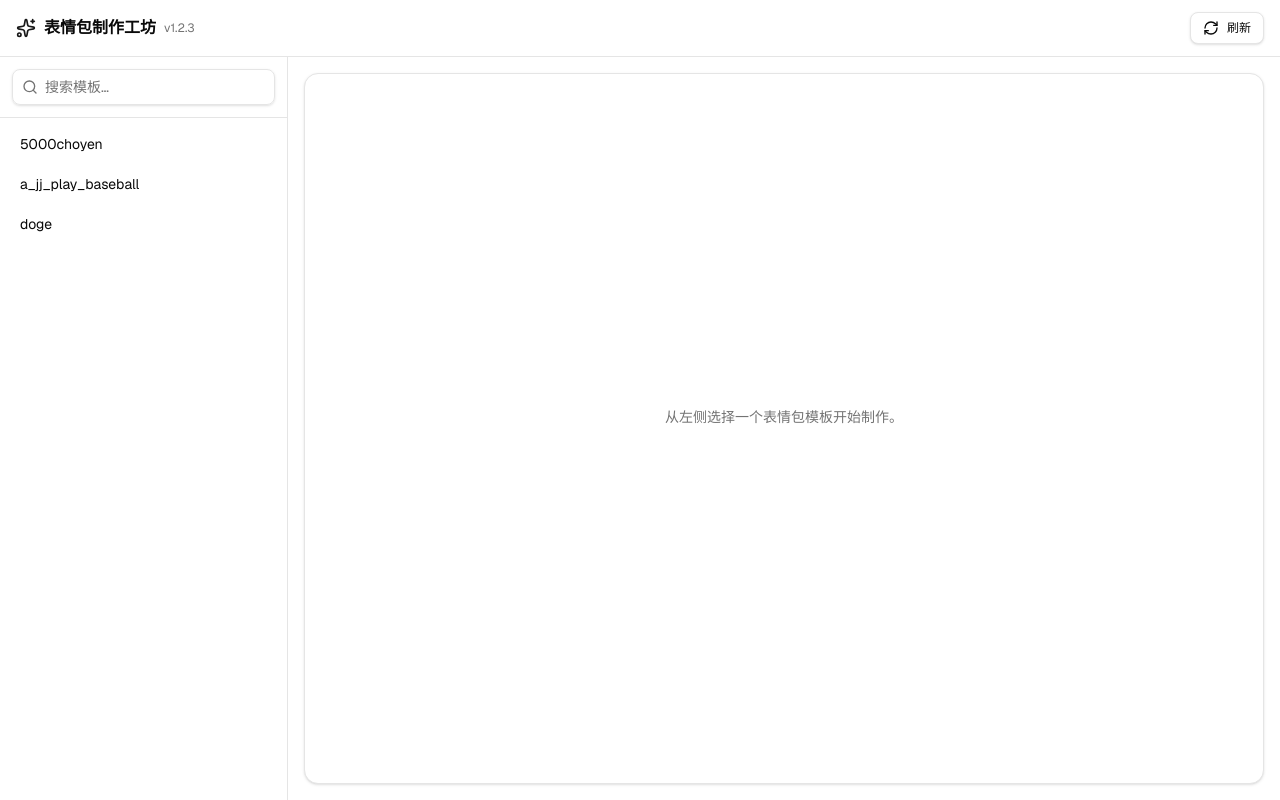
MemeStudio integration › filters the template list by search
This screenshot has width=1280, height=800.
Expected: the text "doge" is shown, [20,215,52,233]
Type "doge" into the field labelled "搜索模板". click: (144, 87)
box: [12,69,275,105]
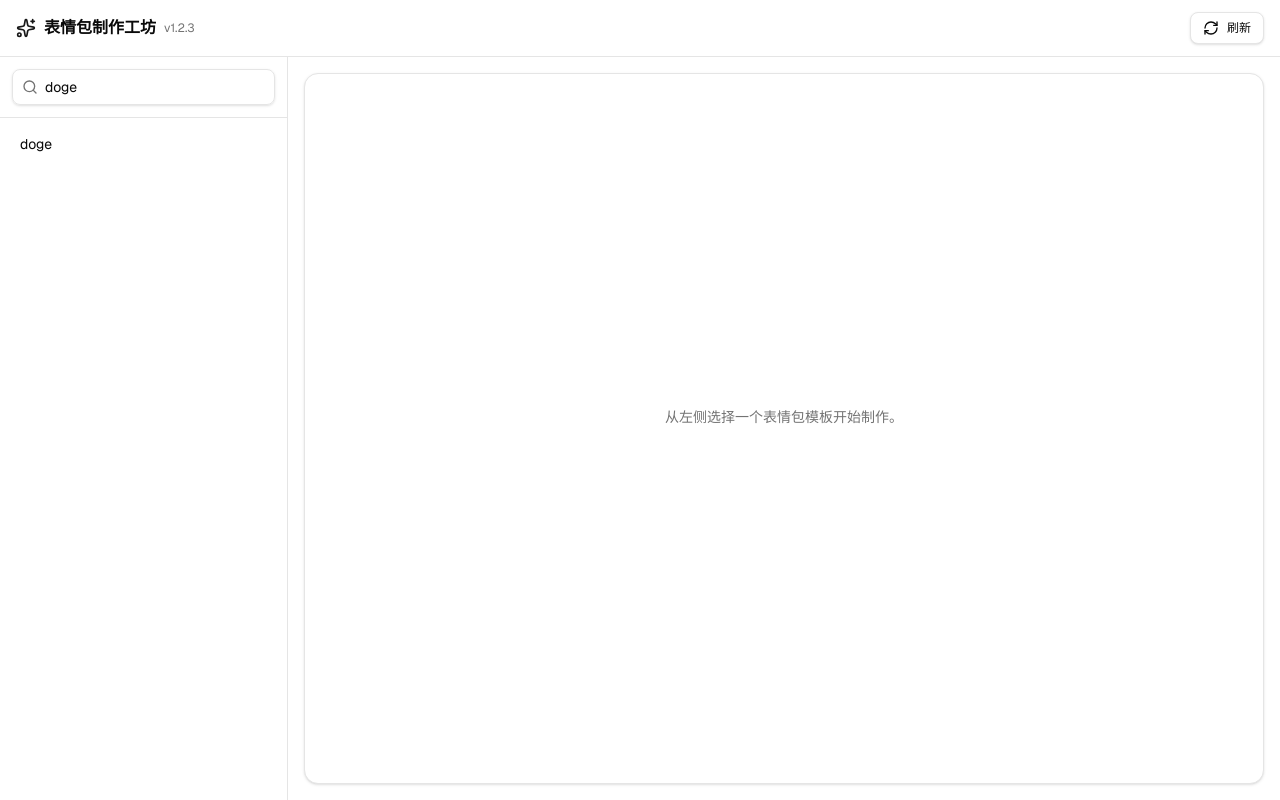
Expected: the text "doge" is shown, [20,135,52,153]
Result: the button "5000choyen" is gone
